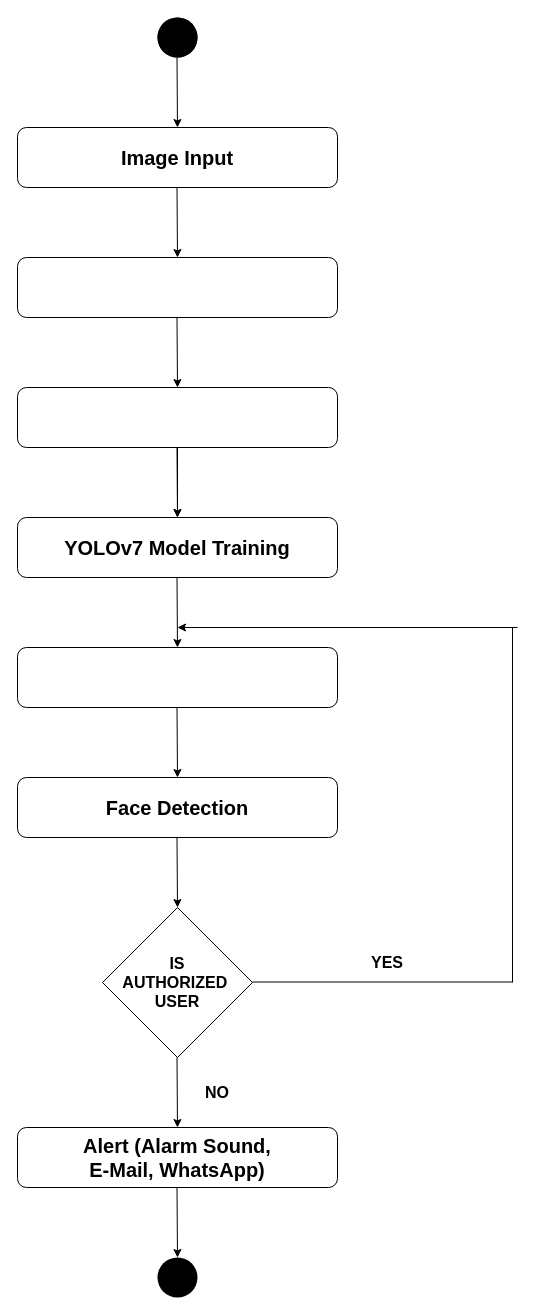
Some shapes in this 543 by 1314 pixel diagram are drawn without their labels. The shapes that lost their labels are listed below. From the top down, each one's centre as x and y in pixels, then its label:
At [177,287]: "Resizing and Color Changing".
At [177,417]: "Image Preprocessing".
At [177,677]: "Weapon Detection".
